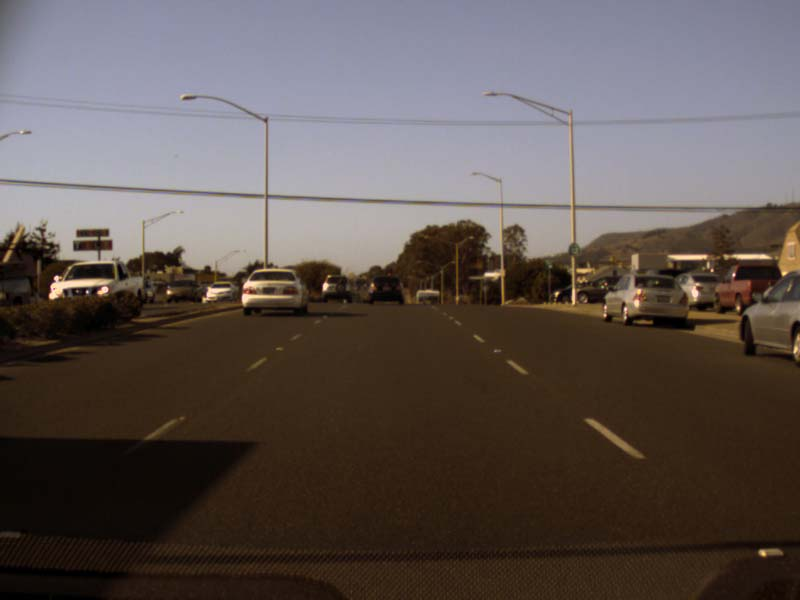Red: (387, 272, 391, 275)
